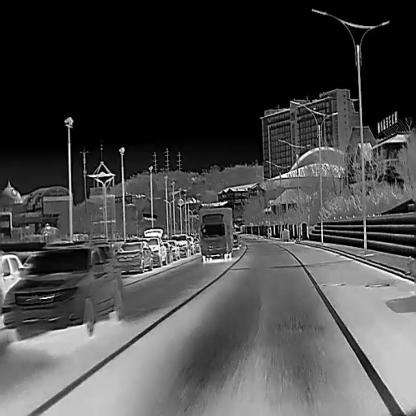car: (2, 240, 122, 341), (198, 204, 233, 262), (0, 252, 23, 312), (114, 239, 153, 271), (144, 236, 166, 264), (171, 233, 191, 258), (166, 237, 179, 260), (162, 239, 173, 263), (232, 234, 239, 250)
